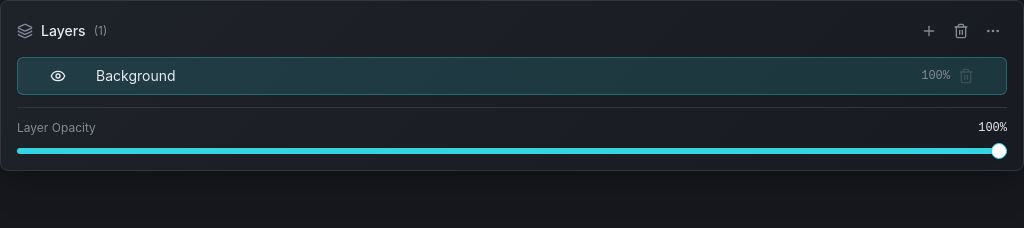
Test: LayersPanel component › should add a new layer when clicking the plus button
What coordinates should you click on to do the following:
click the 1st button
I would click on:
 (929, 31)
Its box is [915,17,943,45].
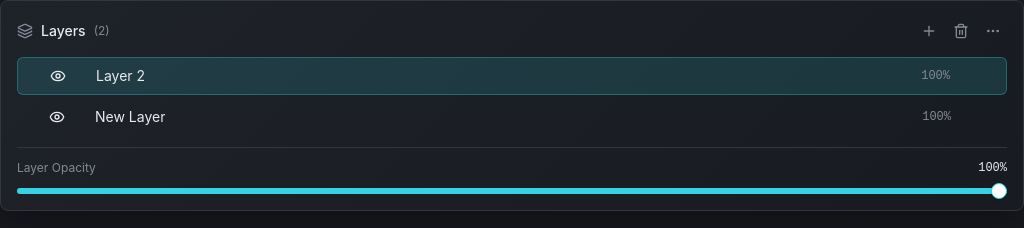
Check: the text "Layer 2" is shown, box [96,66,145,86]
